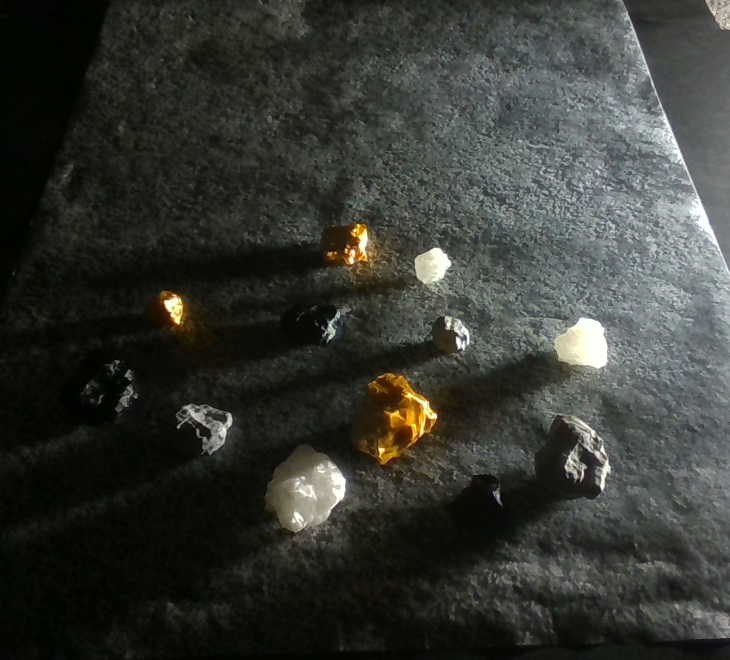anorthosite: (264, 443, 344, 532), (554, 319, 605, 368), (414, 248, 452, 284)
basalt: (59, 347, 138, 433), (449, 474, 510, 536), (278, 301, 339, 351)
metal: (350, 371, 436, 464), (320, 221, 367, 266), (143, 290, 183, 327)
regolith: (533, 414, 607, 501), (159, 403, 231, 458), (432, 315, 468, 354)
